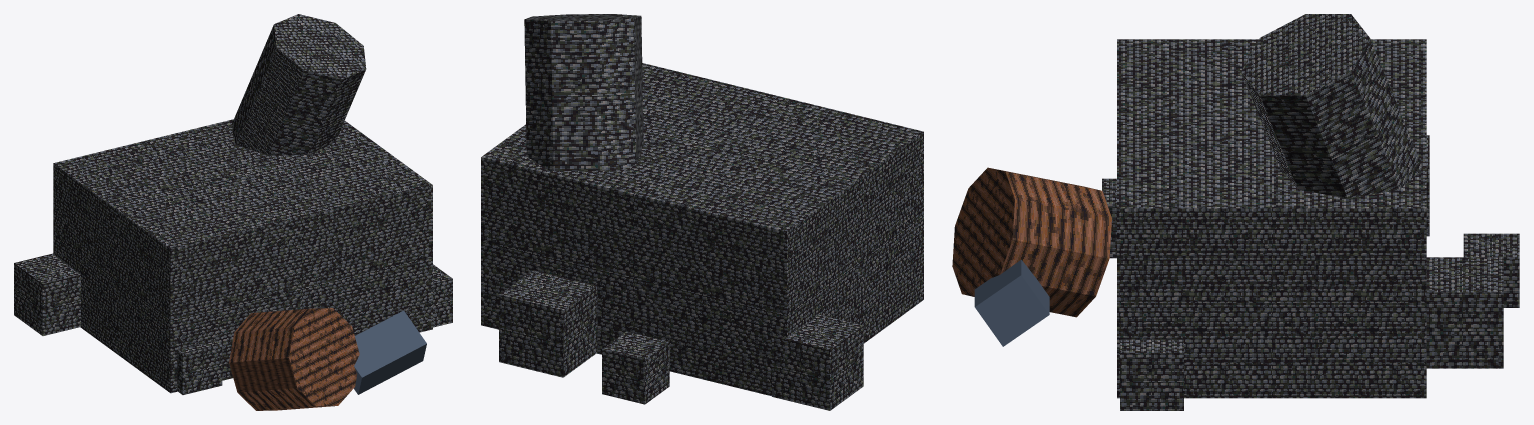
File: forja_ruina.glb
The picture shows the model from 3 angles, left to right: view 1: azimuth 30°, elevation 25°; view 2: azimuth 150°, elevation 25°; view 3: azimuth 270°, elevation 25°; orthographic projection. The views are drawn at different scales.
Visible parts, largest first — view 1: Cube, Cylinder, Cylinder.001, Cube.002, Cube.001, Cube.004, Cube.003; view 2: Cube, Cylinder, Cube.005, Cube.002, Cube.006; view 3: Cube, Cylinder, Cylinder.001, Cube.005, Cube.003, Cube.001, Cube.006, Cube.004.
Part boxes in pixels (x1,y1,x2,y2): Cube: (53, 119, 432, 393); Cylinder: (232, 14, 366, 155); Cylinder.001: (229, 308, 359, 410); Cube.002: (14, 253, 80, 335); Cube.001: (354, 310, 426, 394); Cube.004: (177, 340, 222, 394); Cube.003: (433, 264, 452, 327); Cube: (481, 63, 923, 396); Cylinder: (524, 14, 643, 170); Cube.005: (499, 270, 597, 377); Cube.002: (772, 315, 863, 410); Cube.006: (602, 331, 669, 404); Cube: (1117, 39, 1426, 398); Cylinder: (1241, 14, 1422, 198); Cylinder.001: (952, 167, 1111, 317); Cube.005: (1426, 257, 1503, 368); Cube.003: (1120, 339, 1183, 410); Cube.001: (974, 259, 1049, 346); Cube.006: (1463, 233, 1519, 307); Cube.004: (1102, 178, 1116, 258).
Size of the model in its own units: 2.45 by 2.03 by 2.84.
3 materials, 2 textured.
